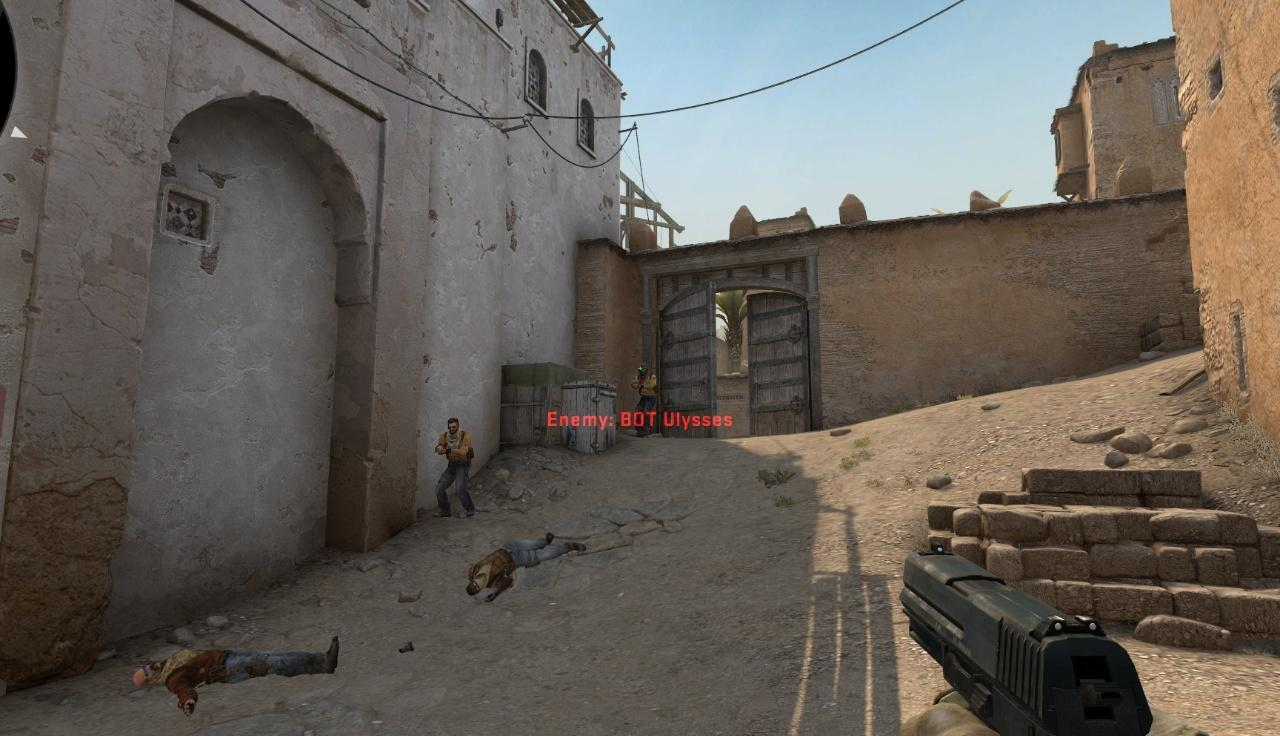pistol: (900, 537, 1214, 736)
tt: (435, 418, 474, 517), (632, 364, 657, 438)
tthead: (448, 418, 459, 434), (639, 364, 648, 377)
